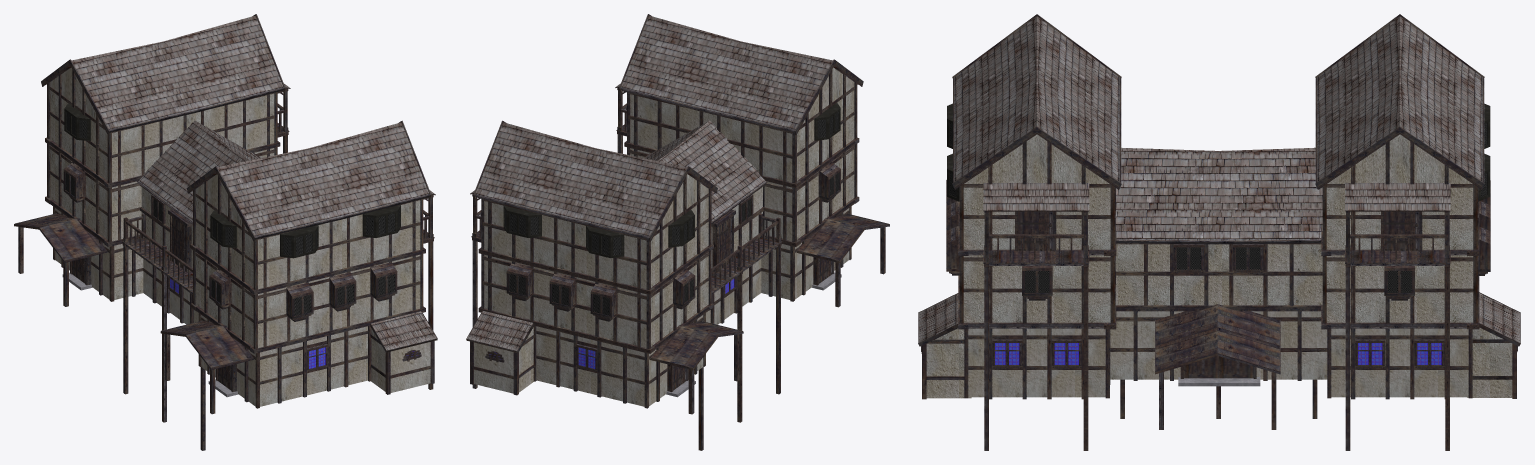
Rendered from hhouse04.dae.
The picture shows the model from 3 angles, left to right: view 1: azimuth 30°, elevation 25°; view 2: azimuth 150°, elevation 25°; view 3: azimuth 270°, elevation 25°; orthographic projection. The views are drawn at different scales.
Parts seen in each view (by area): view 1: House2_Roof, House2_Roof_001, House2_Level3_001, House2_Level3, House2_Level2_001, House2_Level1_001, House1_Roof, House2_Level3_Beams, House2_Level3_Beams_001, House2_Level2_Beams_001, House2_Level2, House2_Level1_Beams_001 (+36 smaller); view 2: House2_Roof_001, House2_Roof, House2_Level3, House2_Level3_001, House2_Level2, House2_Level1, House1_Roof, House2_Level3_Beams_001, House2_Level3_Beams, House2_Level2_Beams, House2_Level2_001, House2_Level1_Beams (+36 smaller); view 3: House1_Roof, House2_Roof, House2_Roof_001, House1_Level2, House2_Level3, House2_Level3_001, House2_Level2, House2_Level2_001, House2_Level1, House2_Level1_001, House1_Level1, Roof1Outer_001 (+40 smaller).
Part boxes in pixels (x1=…): House2_Roof: x1=71, y1=15, x2=283, y2=129; House2_Roof_001: x1=217, y1=122, x2=429, y2=236; House2_Level3_001: x1=196, y1=174, x2=420, y2=289; House2_Level3: x1=50, y1=67, x2=274, y2=182; House2_Level2_001: x1=196, y1=252, x2=420, y2=347; House2_Level1_001: x1=201, y1=315, x2=367, y2=406; House1_Roof: x1=138, y1=120, x2=259, y2=221; House2_Level3_Beams: x1=47, y1=70, x2=277, y2=183; House2_Level3_Beams_001: x1=193, y1=176, x2=423, y2=290; House2_Level2_Beams_001: x1=193, y1=250, x2=423, y2=349; House2_Level2: x1=50, y1=147, x2=274, y2=241; House2_Level1_Beams_001: x1=198, y1=313, x2=371, y2=408; House2_Roof_001: x1=621, y1=15, x2=832, y2=129; House2_Roof: x1=475, y1=122, x2=687, y2=236; House2_Level3: x1=484, y1=174, x2=708, y2=289; House2_Level3_001: x1=630, y1=67, x2=854, y2=182; House2_Level2: x1=484, y1=254, x2=708, y2=347; House2_Level1: x1=536, y1=315, x2=703, y2=406; House1_Roof: x1=645, y1=120, x2=765, y2=221; House2_Level3_Beams_001: x1=627, y1=69, x2=857, y2=183; House2_Level3_Beams: x1=481, y1=176, x2=711, y2=290; House2_Level2_Beams: x1=481, y1=250, x2=711, y2=349; House2_Level2_001: x1=630, y1=147, x2=854, y2=241; House2_Level1_Beams: x1=533, y1=313, x2=705, y2=408; House1_Roof: x1=1115, y1=147, x2=1322, y2=240; House2_Roof: x1=1317, y1=16, x2=1482, y2=181; House2_Roof_001: x1=954, y1=16, x2=1119, y2=181; House1_Level2: x1=1115, y1=244, x2=1322, y2=305; House2_Level3: x1=1326, y1=134, x2=1473, y2=249; House2_Level3_001: x1=963, y1=134, x2=1110, y2=249; House2_Level2: x1=1326, y1=255, x2=1473, y2=322; House2_Level2_001: x1=963, y1=255, x2=1110, y2=322; House2_Level1: x1=1331, y1=328, x2=1468, y2=397; House2_Level1_001: x1=968, y1=328, x2=1105, y2=397; House1_Level1: x1=1110, y1=311, x2=1327, y2=379; Roof1Outer_001: x1=1155, y1=327, x2=1279, y2=371.
Size of the model in its own units: 12.13 by 19.7 by 14.09.
Materials: 28 (28 with a texture image).
